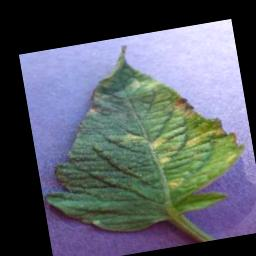Leaf_Mold: (142, 81, 251, 198), (117, 129, 145, 146)
